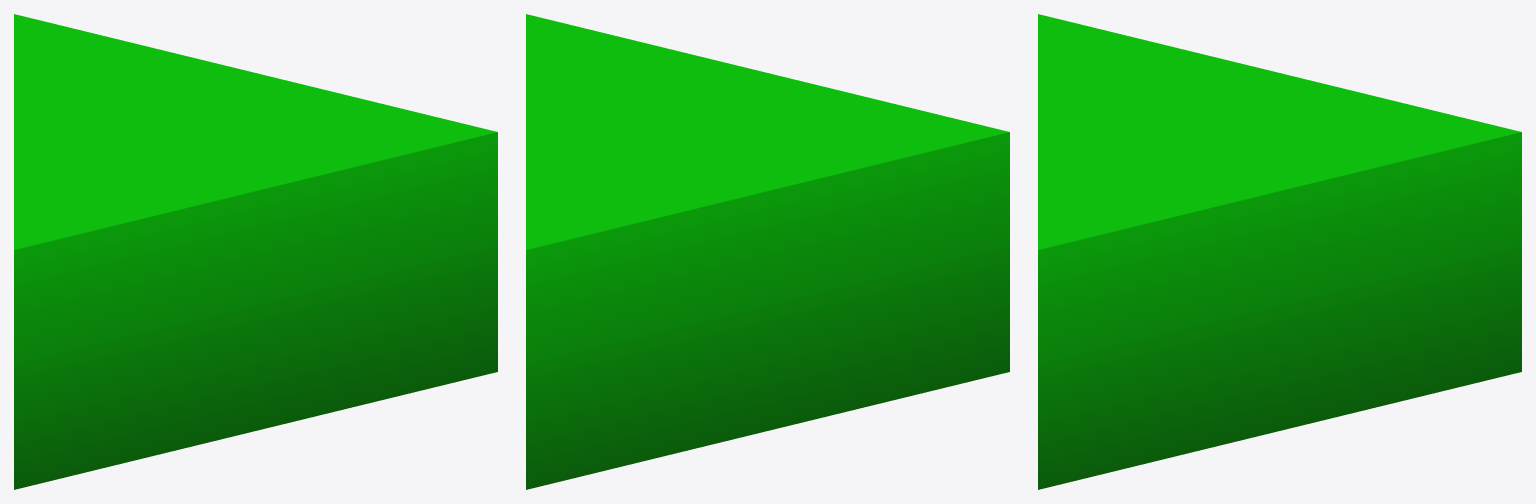
The model's file is logicCube_tringle.fbx.
3 renders of one model, left to right at view 1: azimuth 30°, elevation 25°; view 2: azimuth 150°, elevation 25°; view 3: azimuth 270°, elevation 25°, orthographic.
Parts seen in each view (by area): view 1: logicCube_tringle; view 2: logicCube_tringle; view 3: logicCube_tringle.
Part boxes in pixels (box(x1,y1,x2,y2)): logicCube_tringle: box(14, 14, 497, 489); logicCube_tringle: box(526, 14, 1009, 489); logicCube_tringle: box(1038, 14, 1521, 489).
Size of the model in its own units: 6.54 by 3.1 by 5.66.
